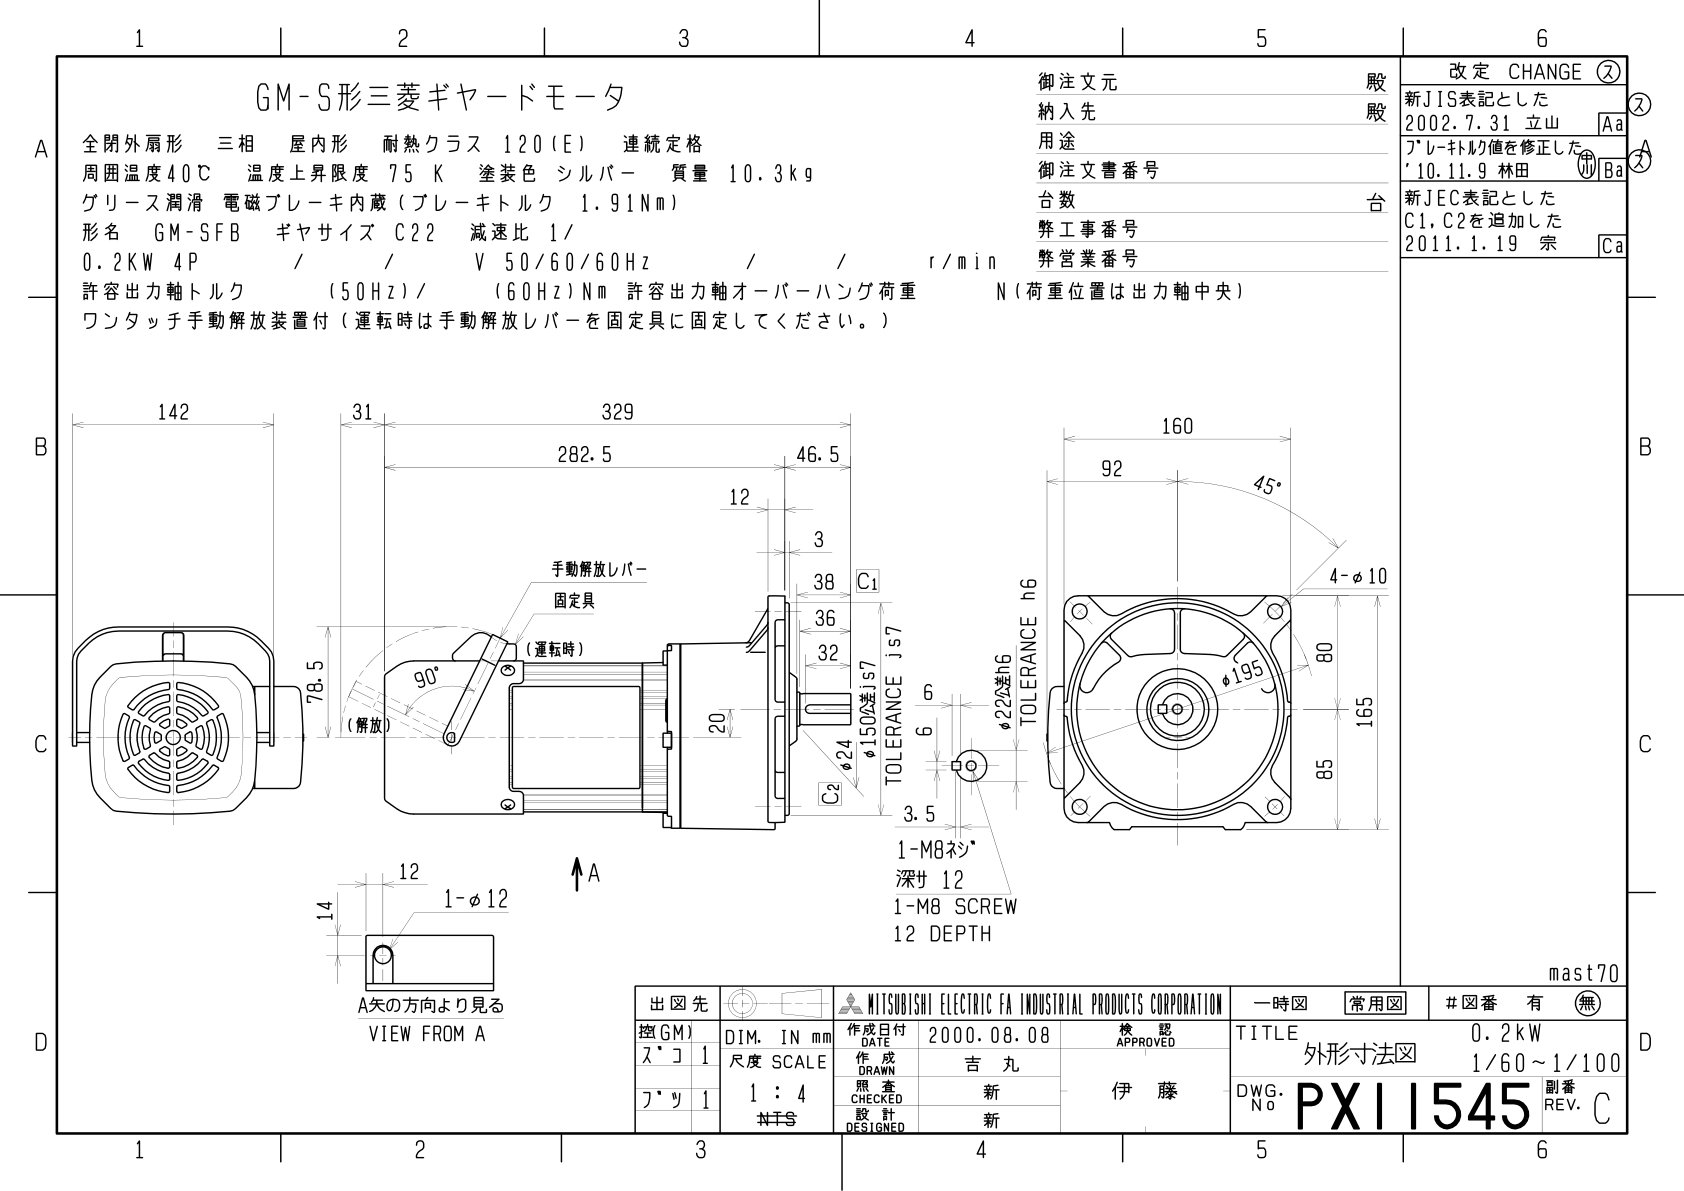GM_S_手動ブレーキ＿三相_フランジ: (8, 6, 1683, 1191)
